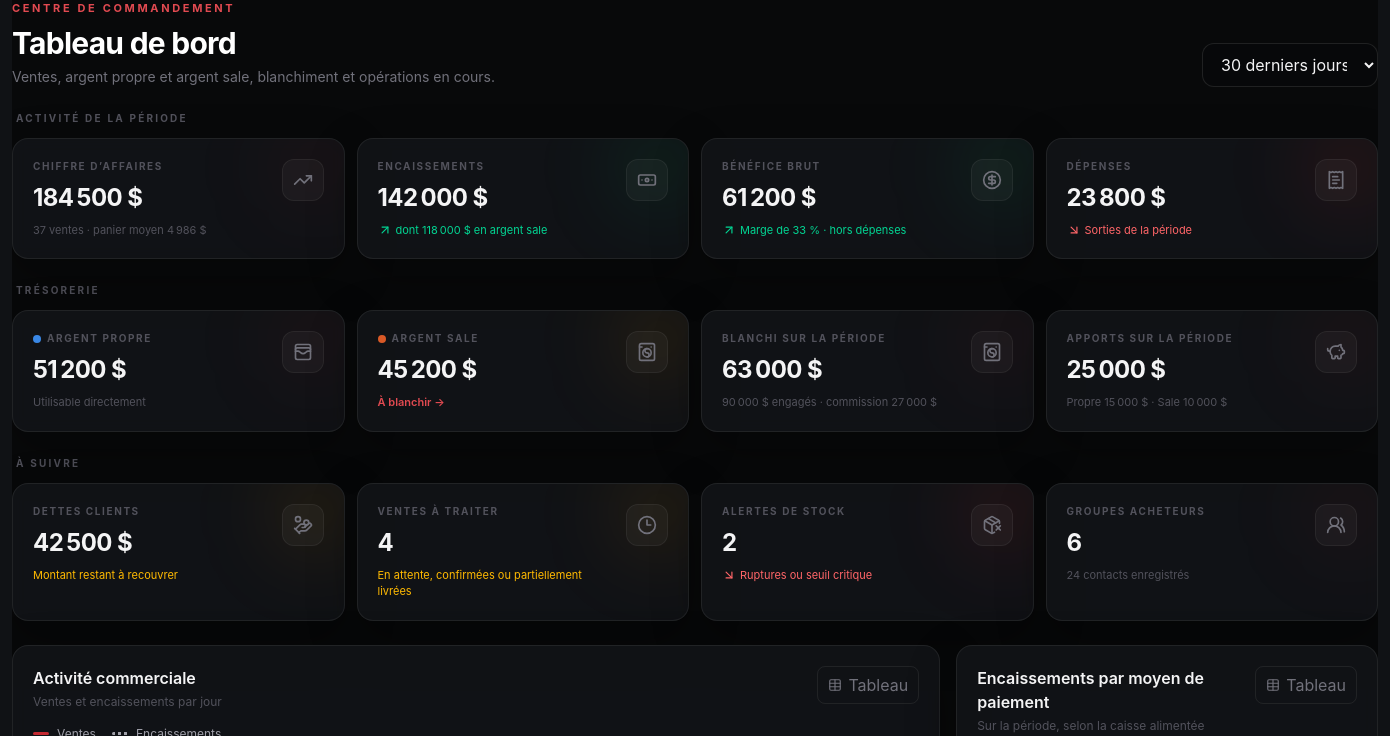
Test case: tableau de bord › donne accès aux chiffres exacts sous forme de tableau
Click the button "Tableau" next to "Encaissements par moyen de paiement".
click(1306, 684)  # box [1255,666,1357,704]
(page scrolled)
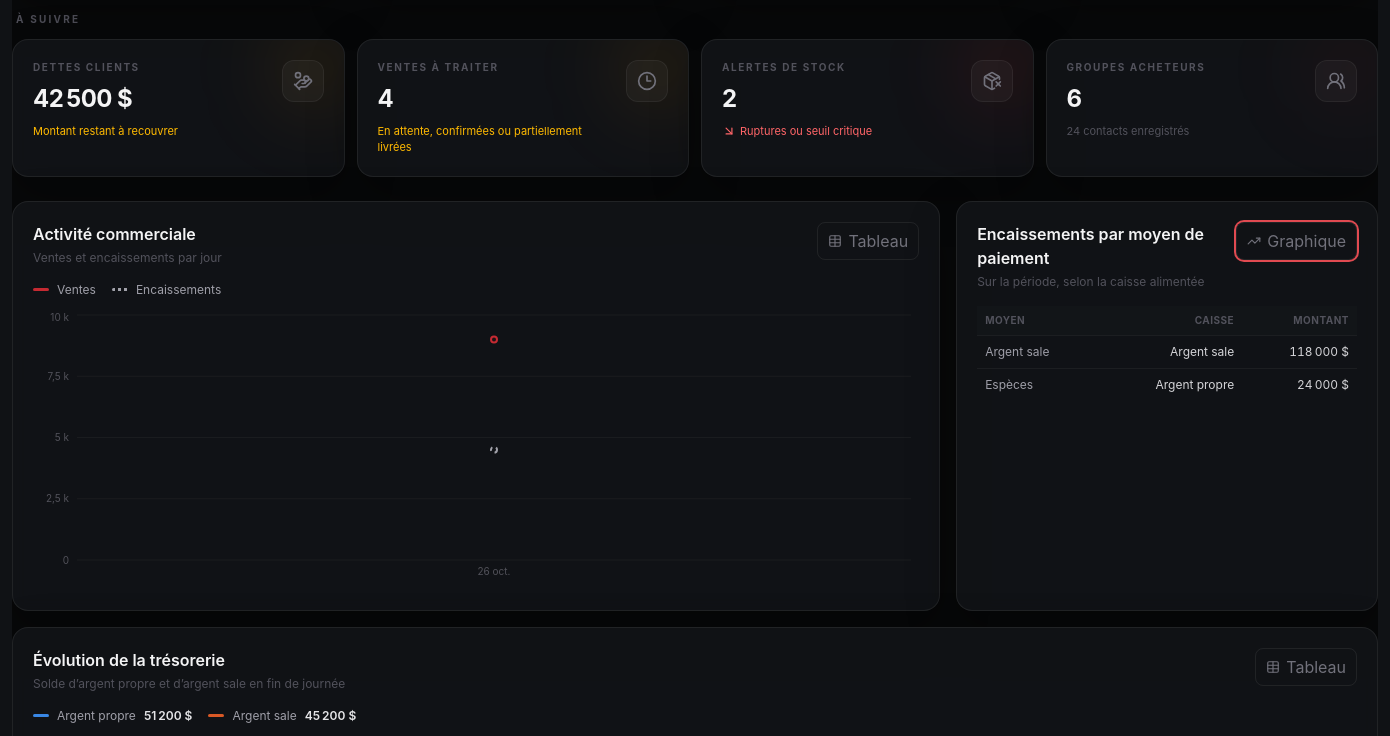
expect the row "Espèces Argent propre 24 000 $" is shown: met, box [977,368,1357,401]
